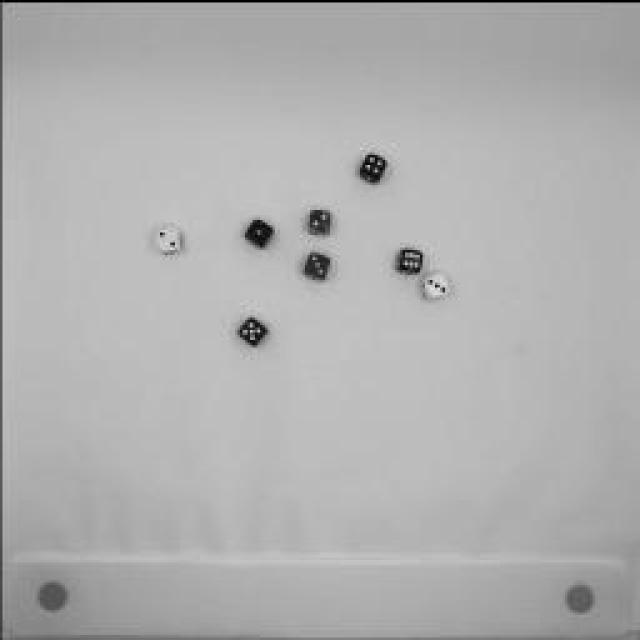dice_1: (242, 211, 276, 249)
dice_2: (152, 220, 188, 255), (304, 205, 334, 235)
dice_3: (300, 245, 332, 280), (419, 268, 449, 302)
dice_4: (354, 150, 388, 182)
dice_5: (234, 310, 268, 342)
dice_6: (392, 245, 426, 275)
